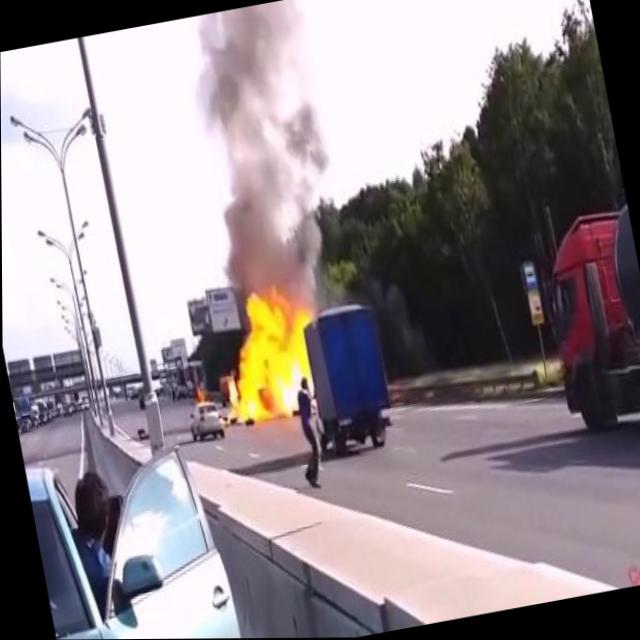fire: (208, 277, 330, 431)
